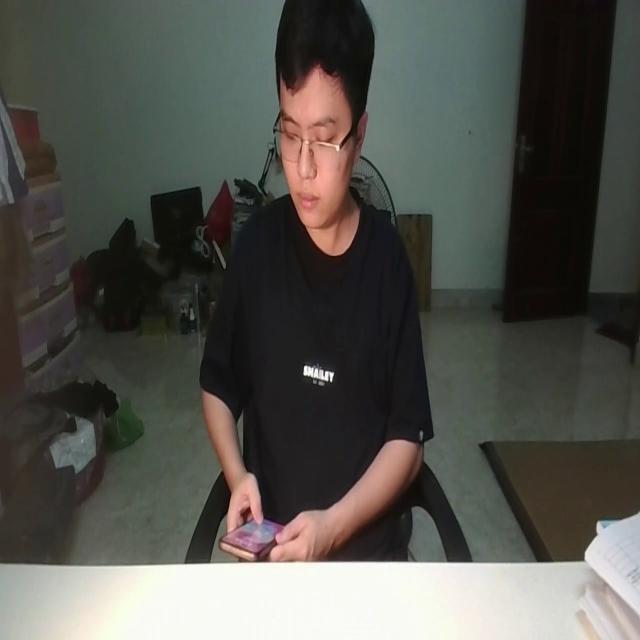phone: (215, 513, 283, 563)
student: (198, 0, 428, 564)
